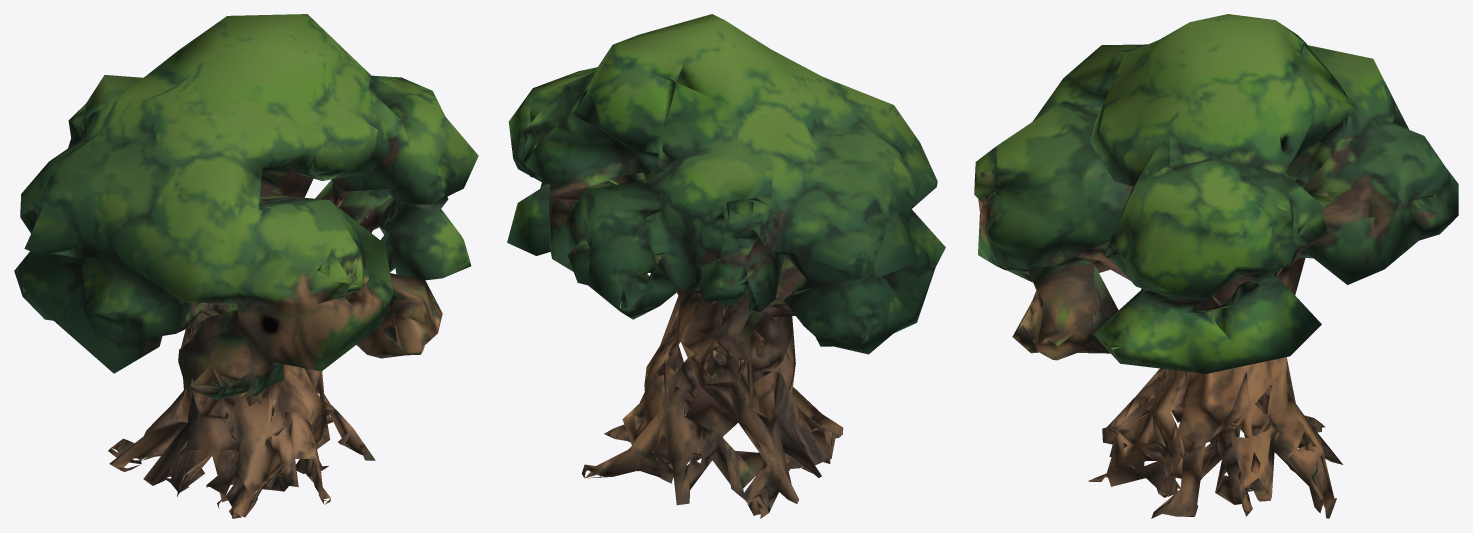
Rendered from zelkova.glb.
3 renders of one model, left to right at view 1: azimuth 30°, elevation 25°; view 2: azimuth 150°, elevation 25°; view 3: azimuth 270°, elevation 25°, orthographic. The views are drawn at different scales.
Parts seen in each view (by area): view 1: low; view 2: low; view 3: low.
Boxes of the visible parts, x1=… form: low: x1=14, y1=14, x2=478, y2=518; low: x1=507, y1=14, x2=945, y2=518; low: x1=974, y1=14, x2=1458, y2=518.
Size of the model in its own units: 0.9901 by 0.9802 by 0.9401.
1 material, 1 textured.
